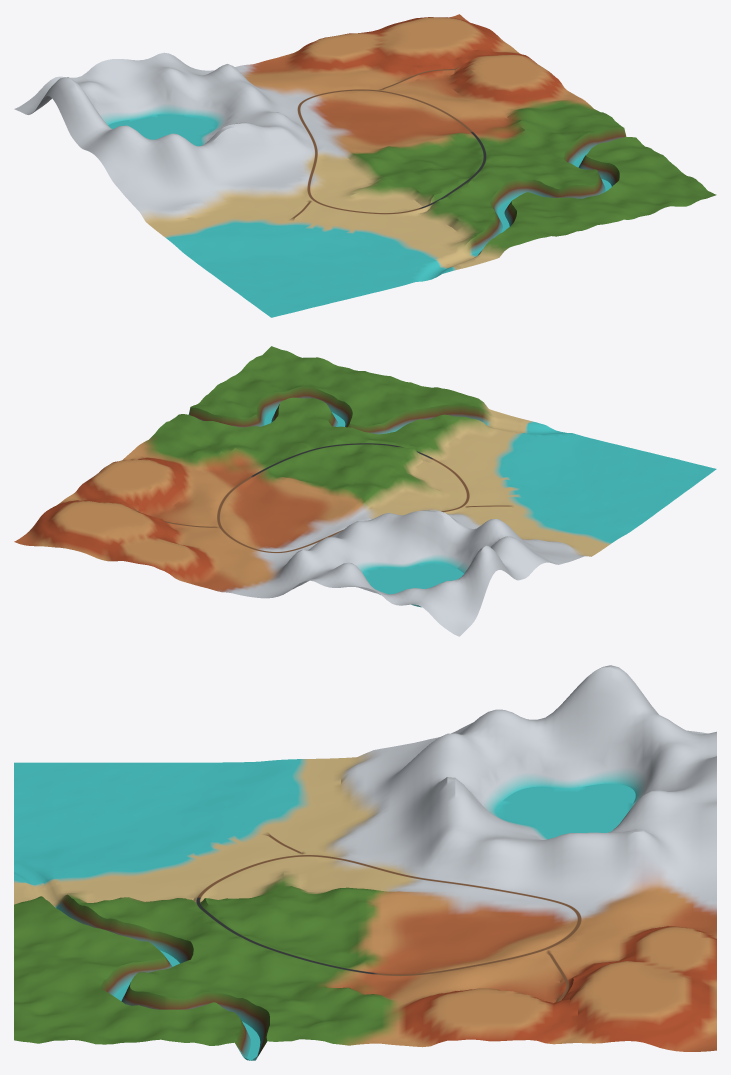
Rendered from island_master.glb.
3 renders of one model, top to bottom at view 1: azimuth 30°, elevation 25°; view 2: azimuth 150°, elevation 25°; view 3: azimuth 270°, elevation 25°, orthographic. The views are drawn at different scales.
Visible parts, largest first — view 1: Island_Master; view 2: Island_Master; view 3: Island_Master.
Part boxes in pixels (left/top/right/bottom): Island_Master: left=14, top=14, right=716, bottom=317; Island_Master: left=14, top=346, right=716, bottom=636; Island_Master: left=14, top=665, right=716, bottom=1060.
Size of the model in its own units: 2400 by 402 by 2400.
